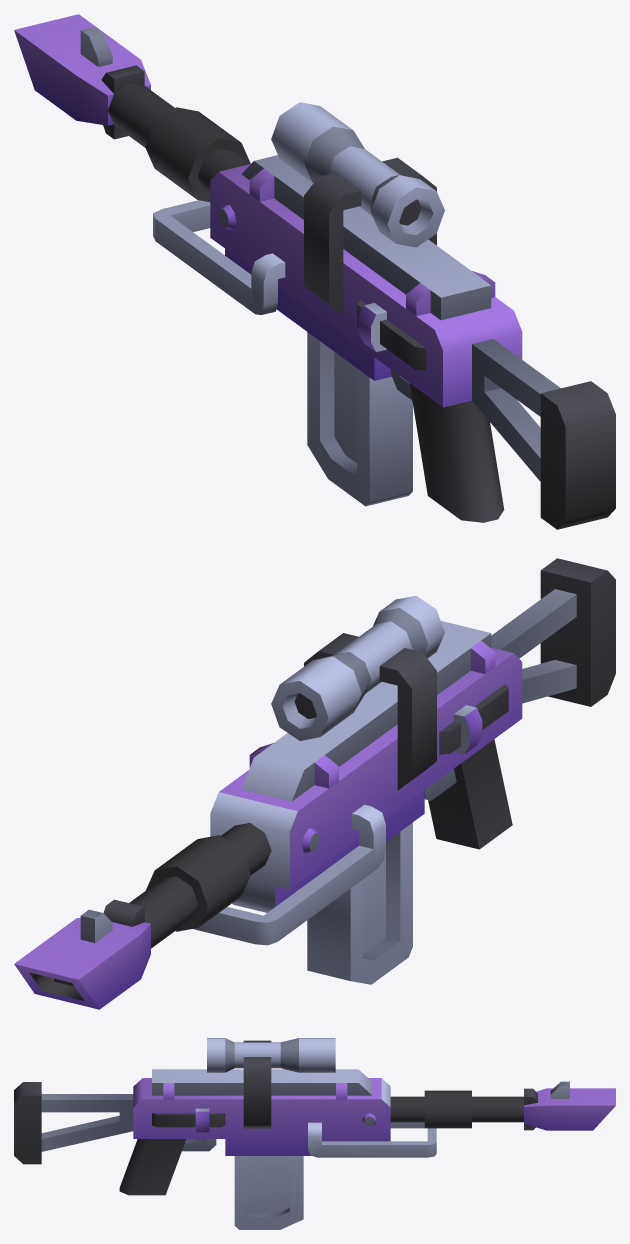
File: carbine.glb
3 renders of one model, top to bottom at view 1: azimuth 30°, elevation 25°; view 2: azimuth 150°, elevation 25°; view 3: azimuth 270°, elevation 25°, orthographic. The views are drawn at different scales.
Visible parts, largest first — view 1: blaster-f, scope, magazine; view 2: blaster-f, scope, magazine; view 3: blaster-f, scope, magazine.
Boxes of the visible parts, box(x1,y1,x2,y2) form: blaster-f: box(14, 14, 615, 529); scope: box(271, 102, 444, 315); magazine: box(307, 332, 412, 506); blaster-f: box(14, 558, 615, 1009); scope: box(271, 595, 444, 790); magazine: box(307, 822, 412, 984); blaster-f: box(14, 1069, 615, 1195); scope: box(207, 1038, 335, 1128); magazine: box(234, 1156, 303, 1229).
Size of the model in its own units: 0.17 by 0.445 by 1.31.
1 material, 1 textured.
